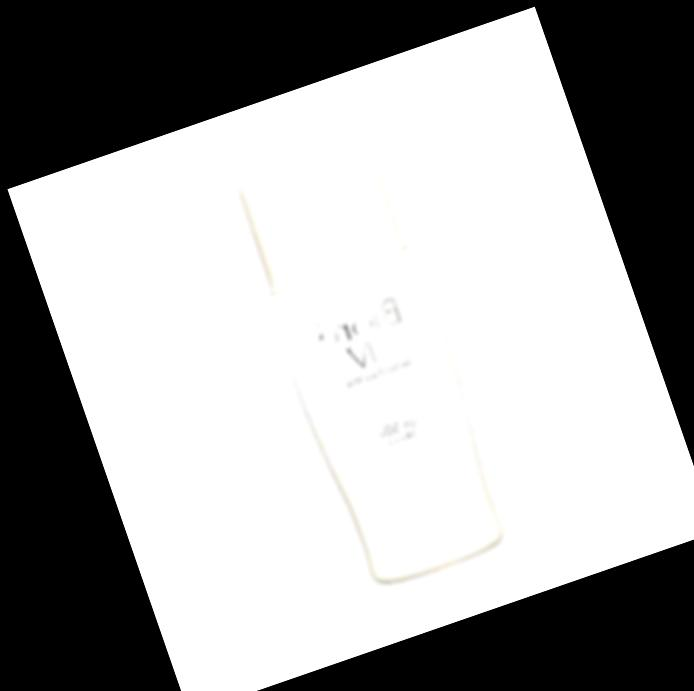cosmetic: (224, 135, 513, 595)
